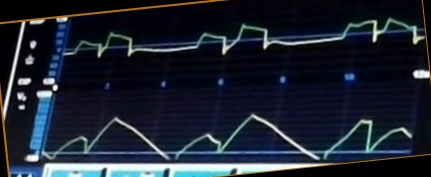Double_Triggering Flow: (69, 16, 423, 67)
Double_Triggering Volume: (46, 112, 412, 160)
